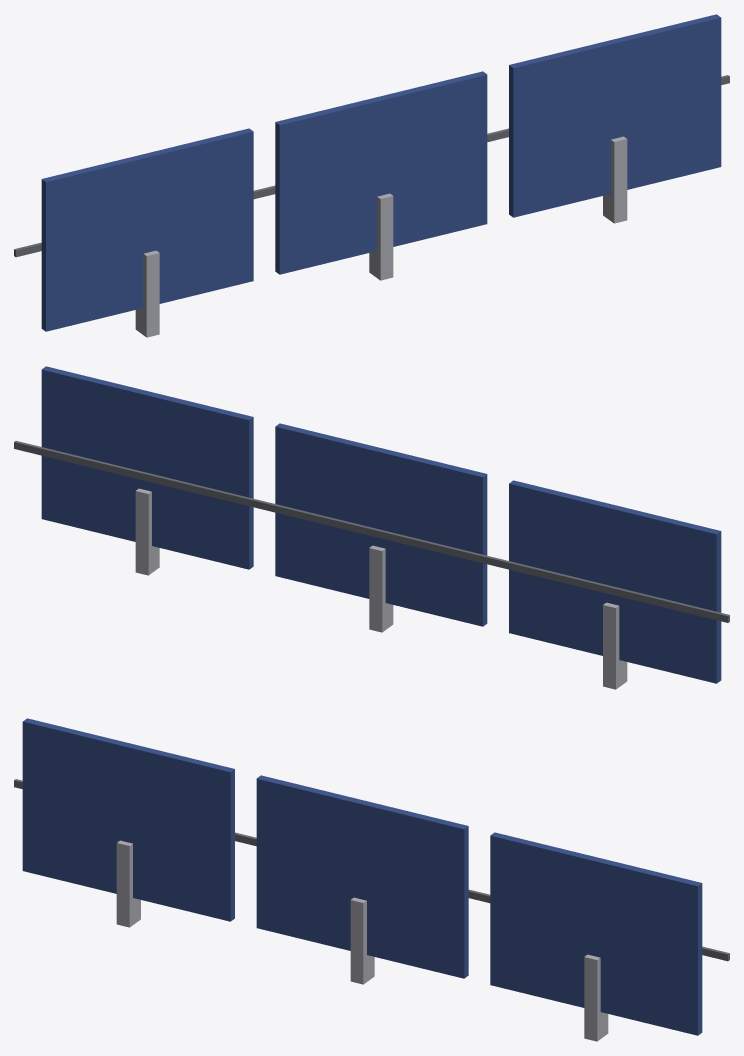
Rendered from solar_array.glb.
3 views of the same model, one above another, from view 1: azimuth 30°, elevation 25°; view 2: azimuth 150°, elevation 25°; view 3: azimuth 330°, elevation 25° (orthographic).
Visible parts, largest first — view 1: solar_array_m; view 2: solar_array_m; view 3: solar_array_m.
Boxes of the visible parts, x1,y1,x2,y2 form: solar_array_m: (14,14,729,337); solar_array_m: (14,366,729,689); solar_array_m: (14,718,729,1041).
Bounding box in the file's own units: 11 × 2.6 × 0.425.
